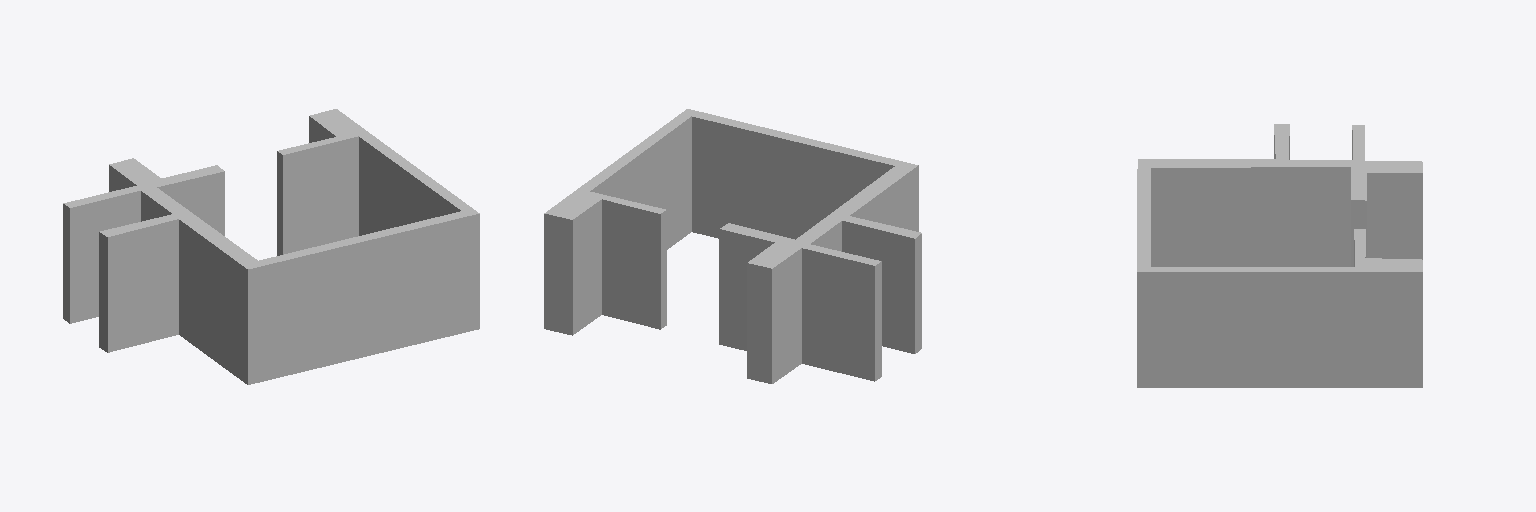
The model's file is bright_115.obj.
3 renders of one model, left to right at view 1: azimuth 30°, elevation 25°; view 2: azimuth 150°, elevation 25°; view 3: azimuth 270°, elevation 25°, orthographic.
Visible parts, largest first — view 1: polySurface9; view 2: polySurface9; view 3: polySurface9.
Boxes of the visible parts, <box> form: polySurface9: <box>63,109,479,384</box>; polySurface9: <box>544,109,921,383</box>; polySurface9: <box>1137,124,1422,387</box>.
Size of the model in its own units: 58.75 by 21.35 by 47.95.